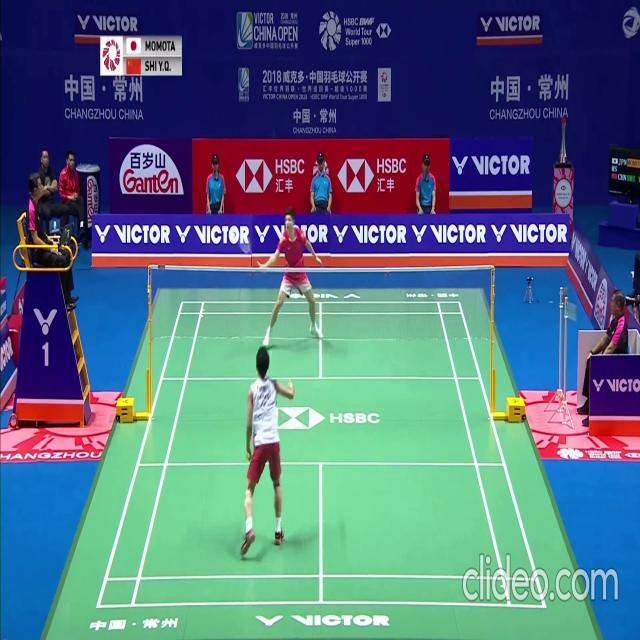Shuttlecock: (231, 231, 236, 238)
